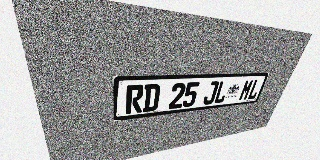2: (168, 82, 187, 109)
5: (182, 82, 200, 107)
D: (142, 84, 161, 112)
J: (202, 81, 220, 105)
L: (213, 80, 230, 104), (247, 79, 263, 100)
M: (238, 79, 254, 101)
R: (125, 84, 144, 114)
